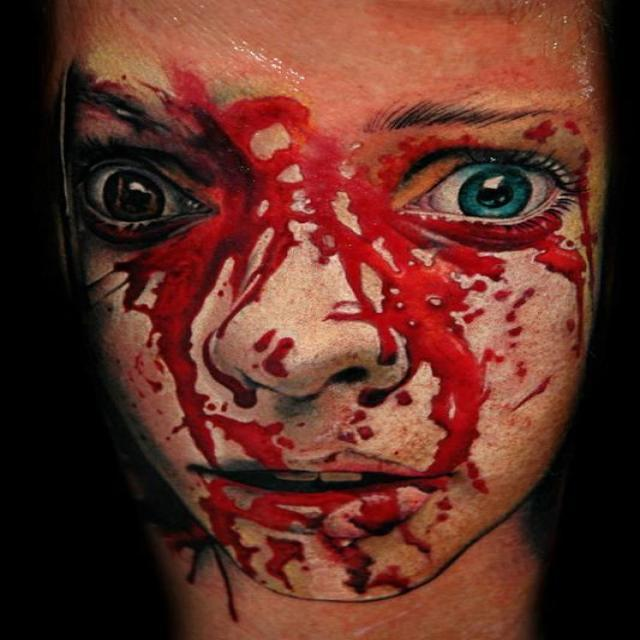flood: (312, 227, 495, 496), (174, 140, 272, 482)
